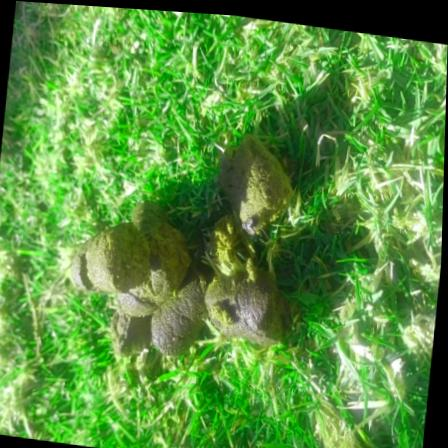dog-poop: (46, 99, 309, 379)
